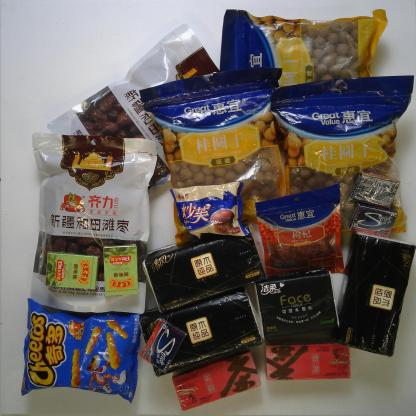Candy: (45, 250, 100, 290), (103, 242, 139, 296)
Dessert: (170, 180, 250, 240)
Dried Food: (45, 22, 230, 200), (139, 67, 292, 248), (270, 74, 408, 247), (31, 130, 159, 316), (220, 7, 388, 111)
Dried Fruit: (254, 180, 346, 279)
Gum: (139, 319, 187, 373), (351, 171, 401, 209), (348, 201, 398, 238)
Instant Drink: (172, 348, 262, 412), (266, 344, 350, 381)
Puffed Food: (21, 297, 143, 405)
Tissue: (141, 221, 266, 316), (138, 284, 264, 377), (336, 230, 416, 357), (254, 267, 341, 341)
